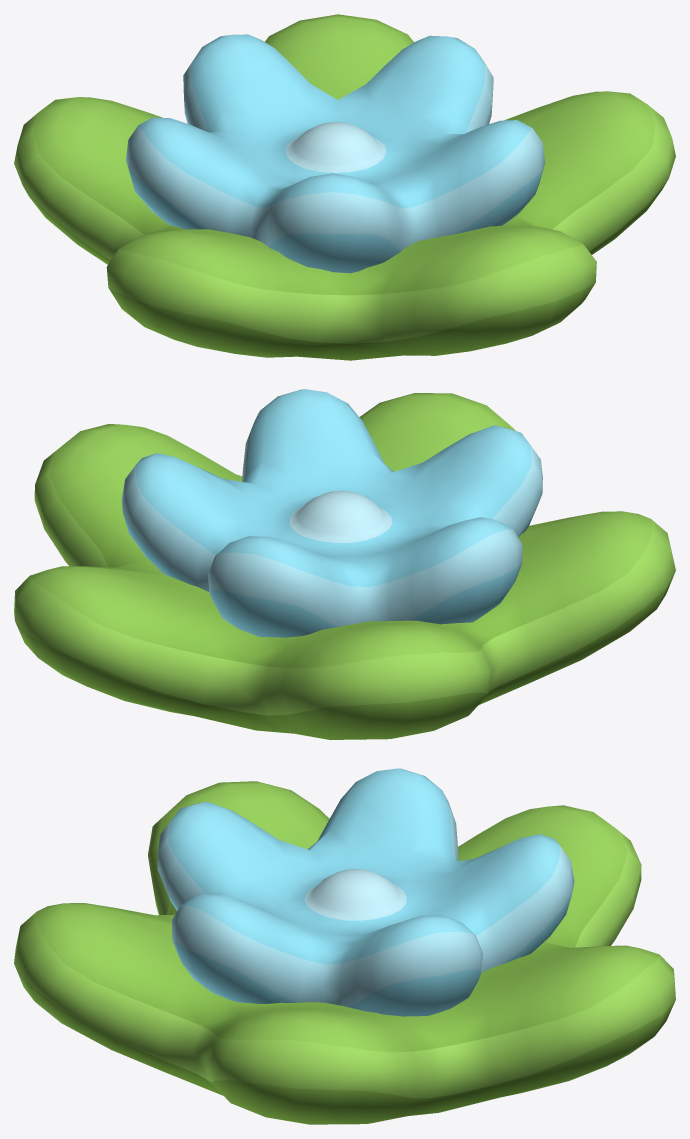
The model's file is flower_blue.fbx.
3 views of the same model, one above another, from view 1: azimuth 30°, elevation 25°; view 2: azimuth 150°, elevation 25°; view 3: azimuth 270°, elevation 25° (orthographic). The views are drawn at different scales.
Parts seen in each view (by area): view 1: flower_blue; view 2: flower_blue; view 3: flower_blue.
Part boxes in pixels (x1=…): flower_blue: x1=14, y1=14, x2=675, y2=360; flower_blue: x1=14, y1=389, x2=675, y2=739; flower_blue: x1=14, y1=768, x2=675, y2=1124.
Bounding box in the file's own units: 102 × 36.16 × 102.
Materials: 1 (1 with a texture image).
